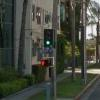Traffic light: (35, 19, 59, 61)
